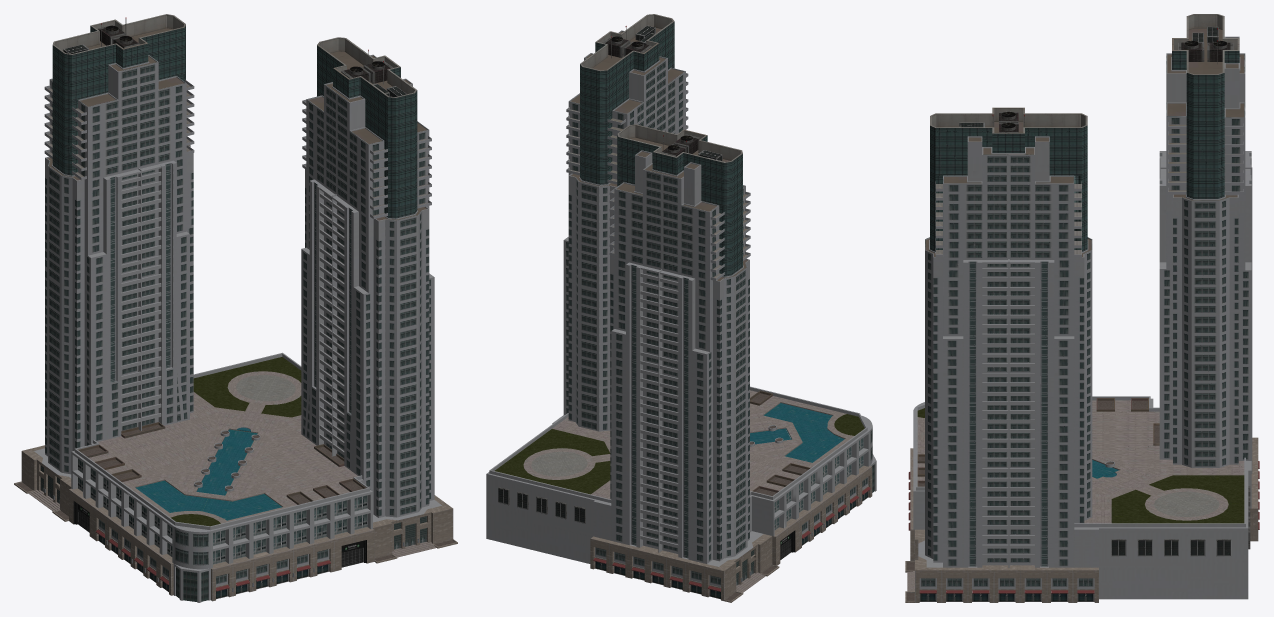
3 views of the same model, side by side, from view 1: azimuth 30°, elevation 25°; view 2: azimuth 150°, elevation 25°; view 3: azimuth 270°, elevation 25° (orthographic). The views are drawn at different scales.
Visible parts, largest first — view 1: bina.011; view 2: bina.011; view 3: bina.011.
Part boxes in pixels (x1=…): bina.011: x1=14, y1=14, x2=457, y2=602; bina.011: x1=486, y1=14, x2=876, y2=602; bina.011: x1=905, y1=14, x2=1259, y2=602.
Size of the model in its own units: 24.44 by 39.26 by 26.7.
Materials: 1 (1 with a texture image).
